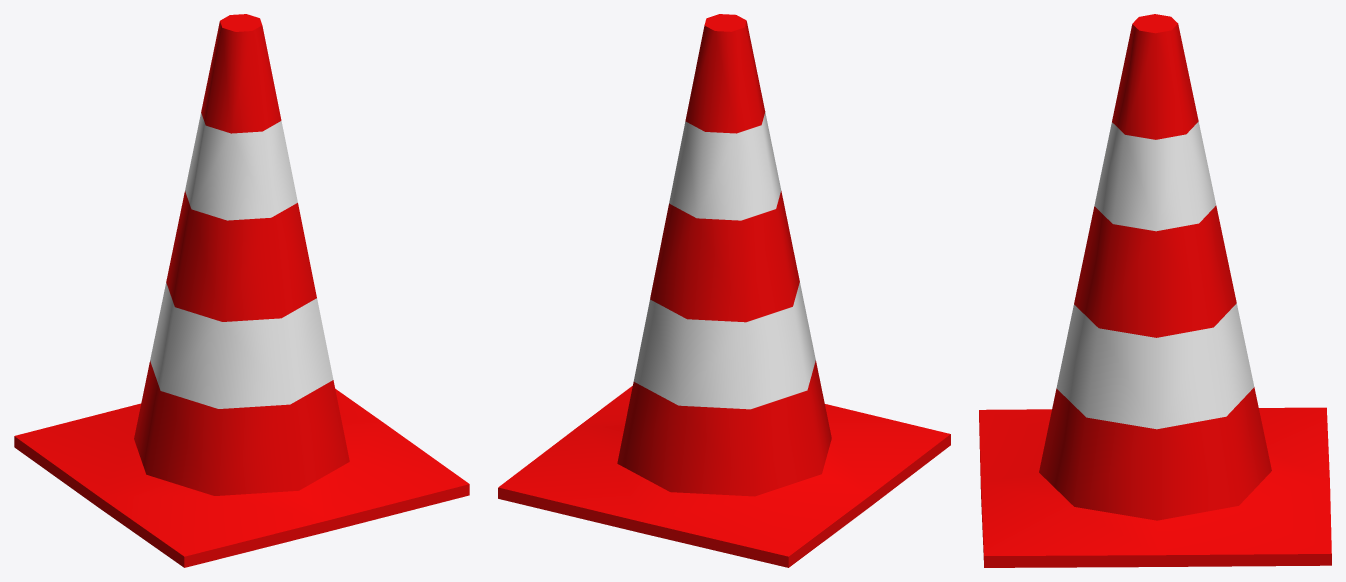
The picture shows the model from 3 angles, left to right: view 1: azimuth 30°, elevation 25°; view 2: azimuth 150°, elevation 25°; view 3: azimuth 270°, elevation 25°; orthographic projection. The views are drawn at different scales.
Parts seen in each view (by area): view 1: Cone; view 2: Cone; view 3: Cone.
Boxes of the visible parts, x1,y1,x2,y2 form: Cone: (14,14,469,567); Cone: (498,14,950,567); Cone: (979,14,1331,567).
Bounding box in the file's own units: 0.4216 × 0.6204 × 0.4215.
